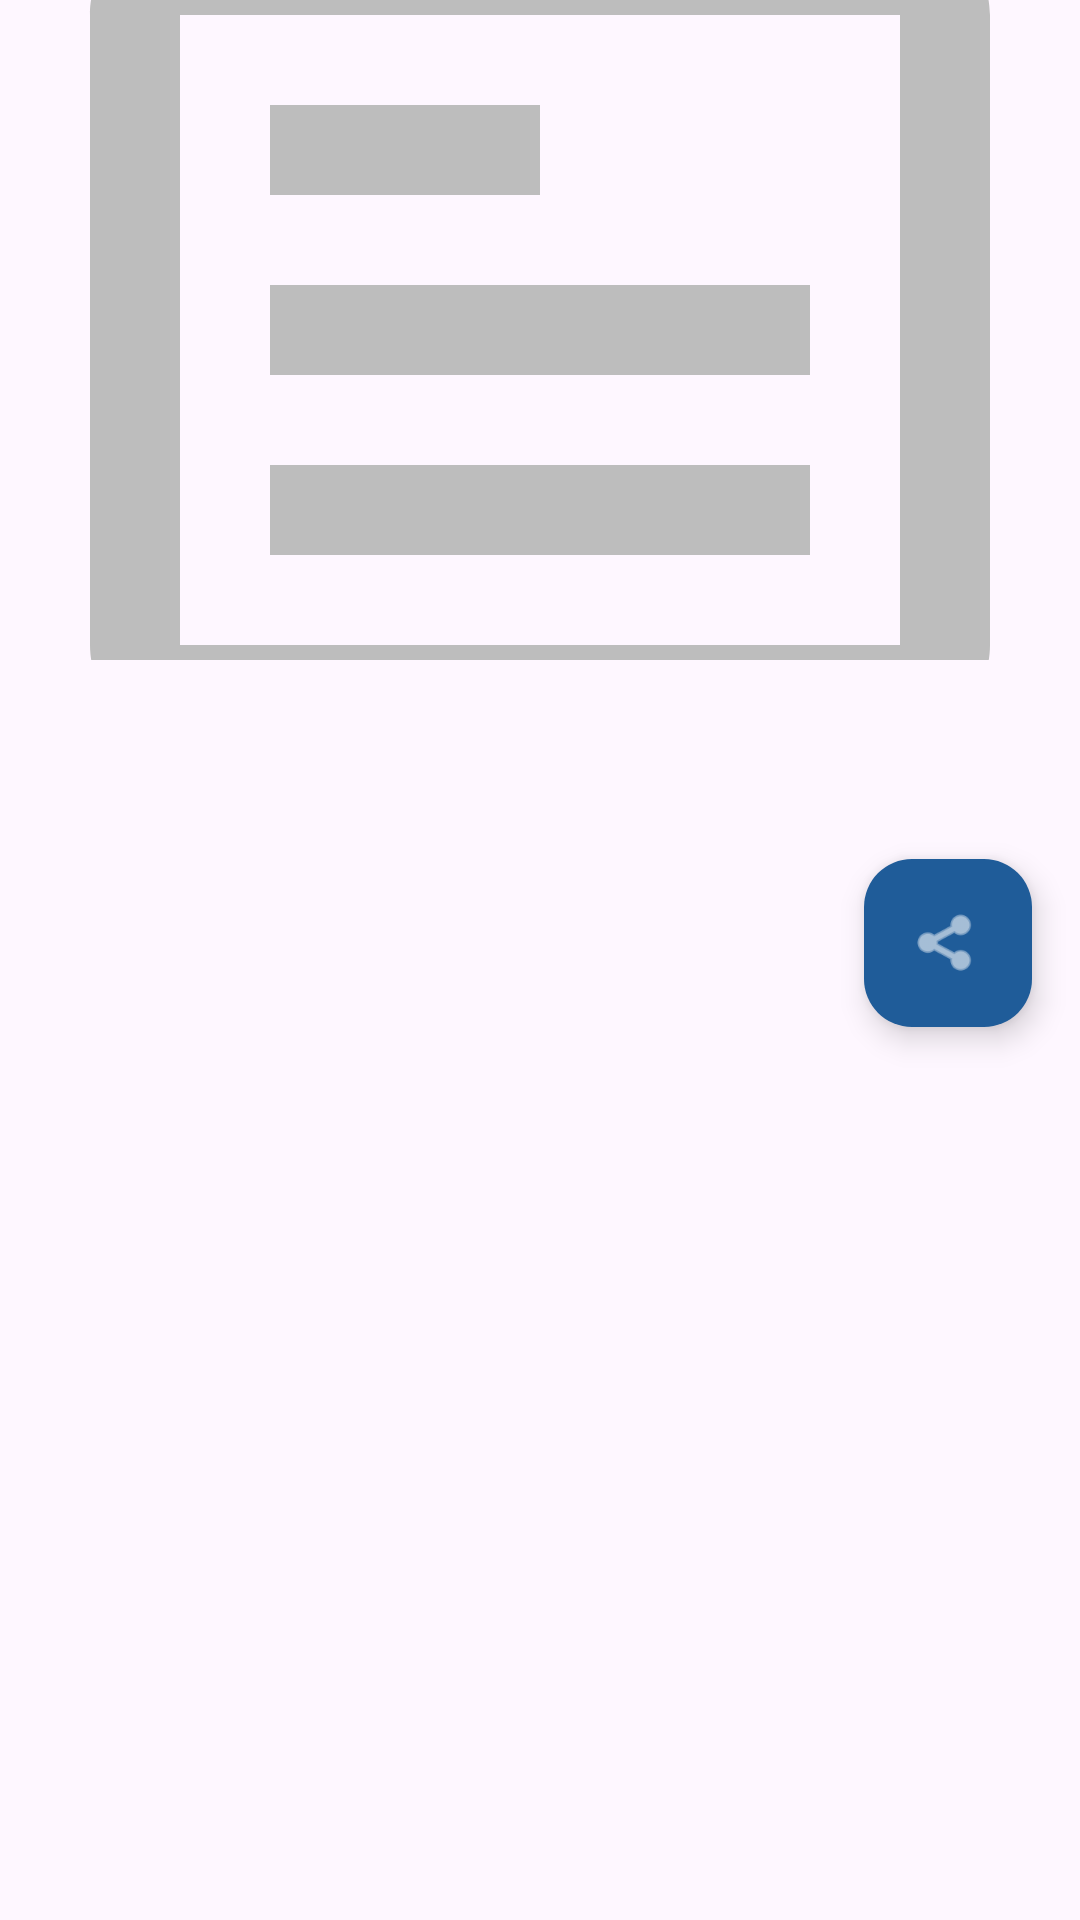

Icon bounding boxes for this 1080×1920 phone screenshot, format detection(x1, y1, x2, y2):
share: detection(864, 859, 1032, 1027)
